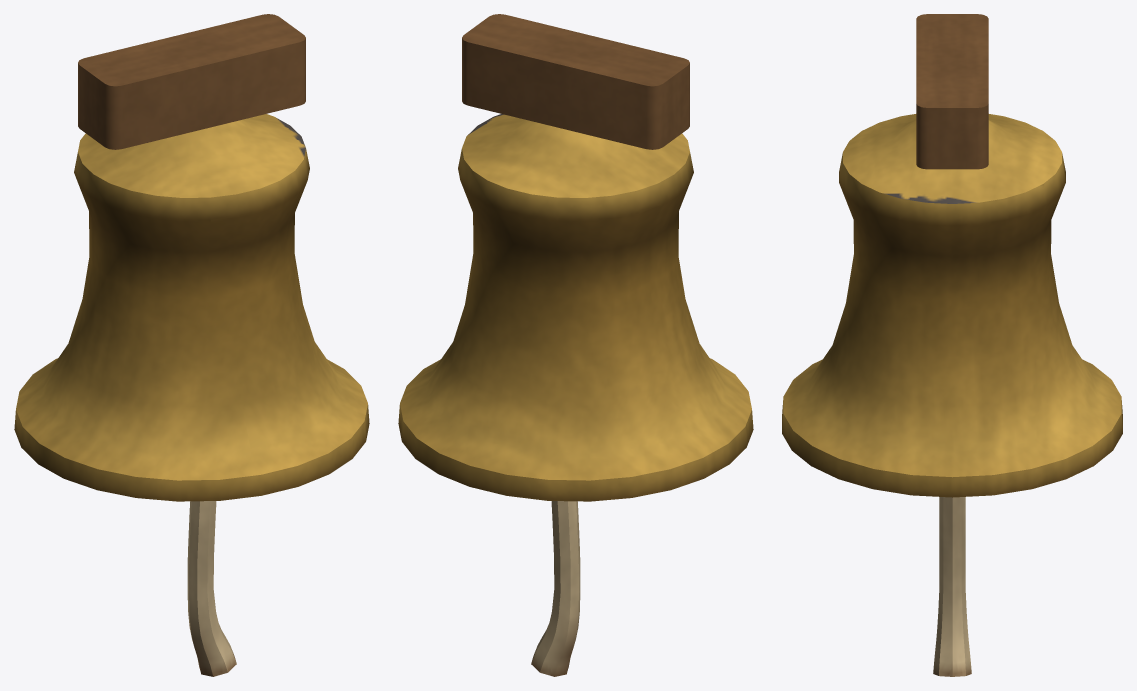
The model's file is bell.glb.
3 views of the same model, side by side, from view 1: azimuth 30°, elevation 25°; view 2: azimuth 150°, elevation 25°; view 3: azimuth 270°, elevation 25° (orthographic). The views are drawn at different scales.
Parts seen in each view (by area): view 1: Bell, Stock, Rope; view 2: Bell, Stock, Rope; view 3: Bell, Stock, Rope.
Part boxes in pixels (left/top/right/bottom): Bell: left=14, top=114, right=369, bottom=501; Stock: left=78, top=14, right=305, bottom=149; Rope: left=187, top=501, right=236, bottom=676; Bell: left=398, top=114, right=753, bottom=501; Stock: left=462, top=14, right=689, bottom=149; Rope: left=531, top=501, right=580, bottom=676; Bell: left=782, top=114, right=1122, bottom=497; Stock: left=916, top=14, right=988, bottom=169; Rope: left=933, top=497, right=971, bottom=676.
Size of the model in its own units: 0.71 by 1.38 by 0.7048.
1 material, 1 textured.
